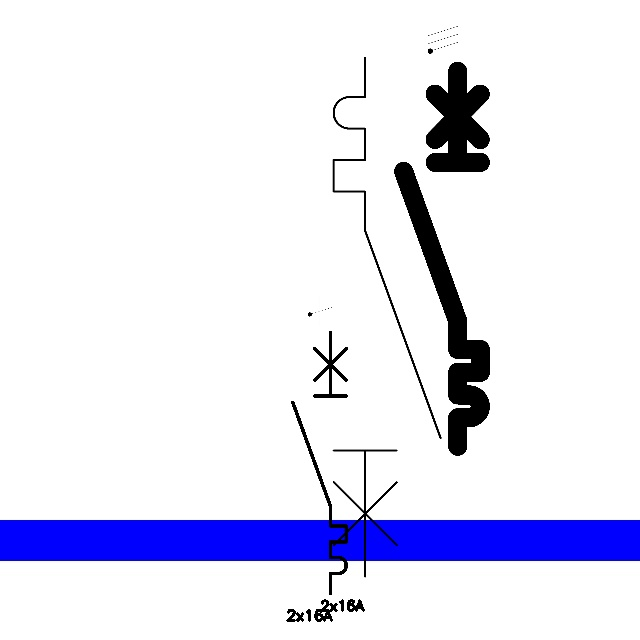interruptor_termomagnetico: (320, 44, 453, 590), (394, 61, 490, 456), (286, 326, 353, 600)
